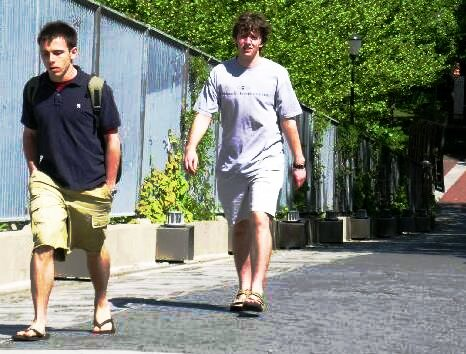person: (191, 11, 318, 313), (19, 18, 134, 343)
